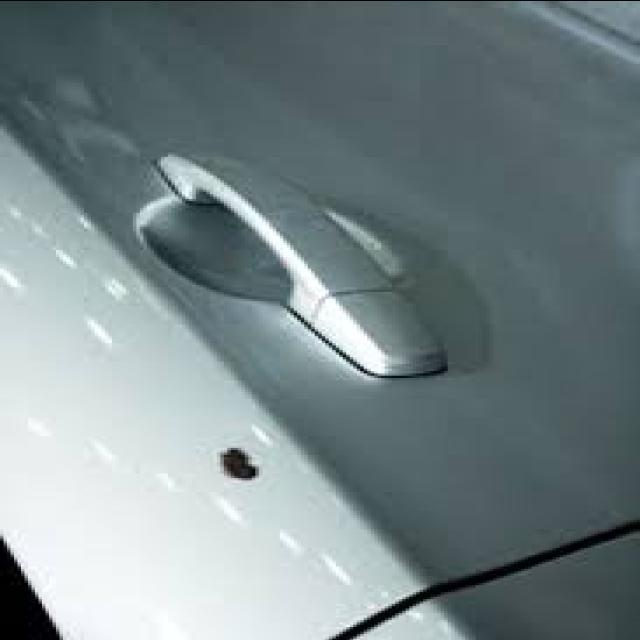paint-chip: (189, 426, 279, 501)
